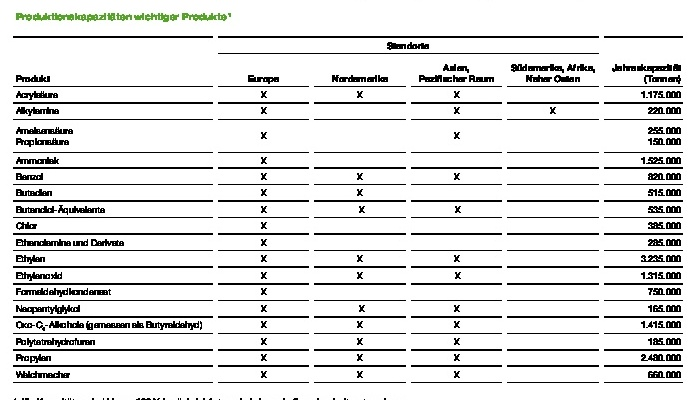table: (0, 0, 699, 400)
